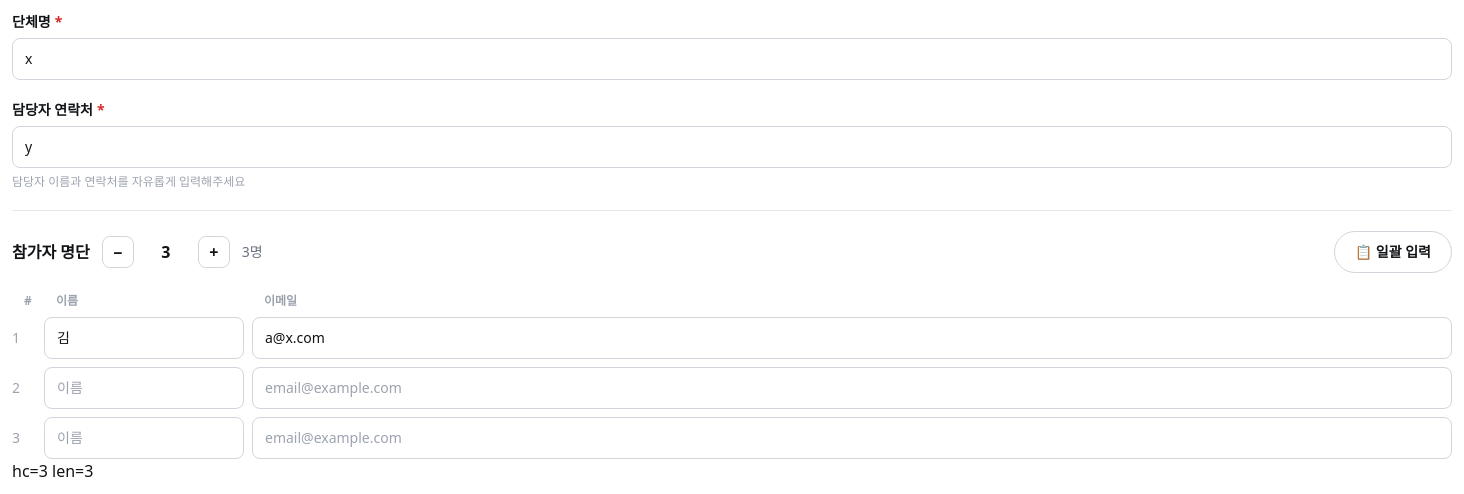
Test: GroupFields › 감소 시 마지막 행 비어 있으면 모달 없이 즉시 적용
Click the button named "감소" at (118, 252), box 102,236 -> 134,268
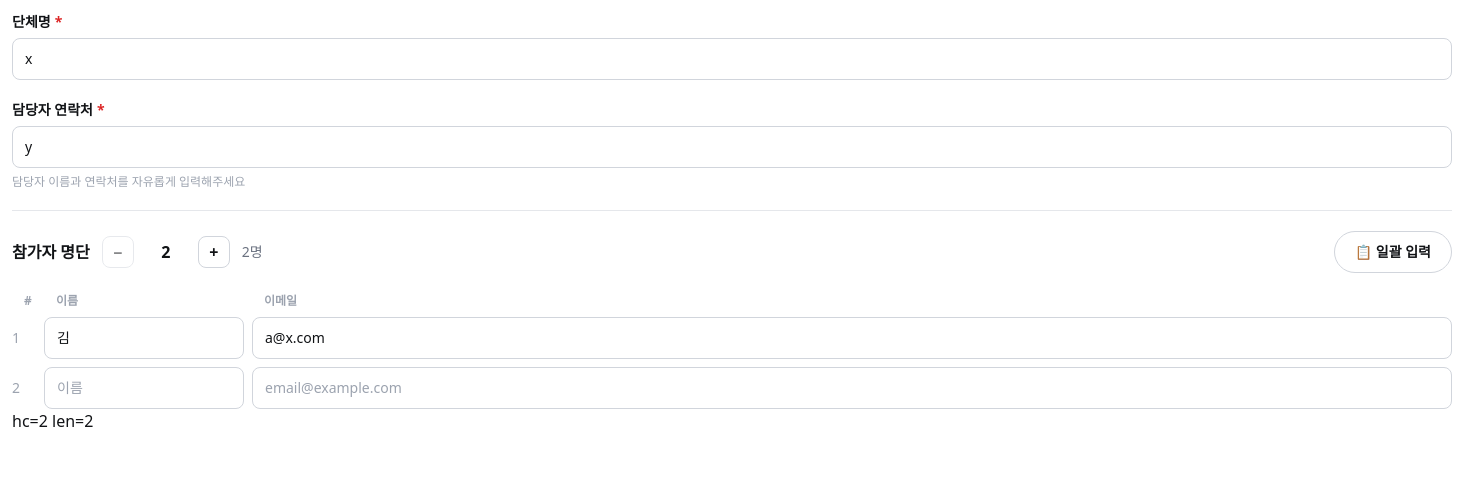
Check: the text with test id "spy" reads "hc=2 len=2", box 12,410 -> 93,432
